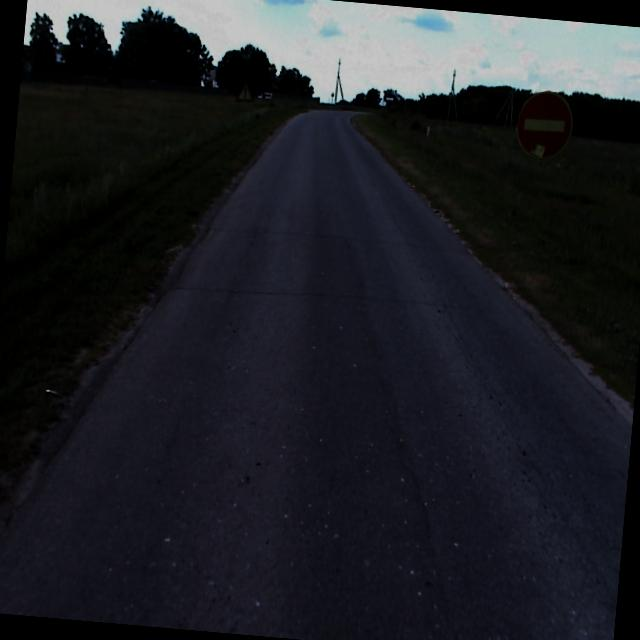road: (0, 109, 631, 640)
